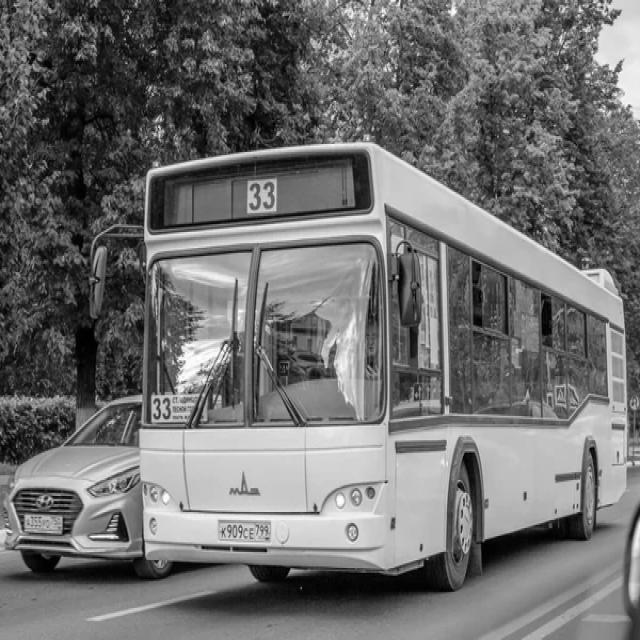Bus: (140, 143, 630, 592)
Car: (4, 396, 172, 578)
